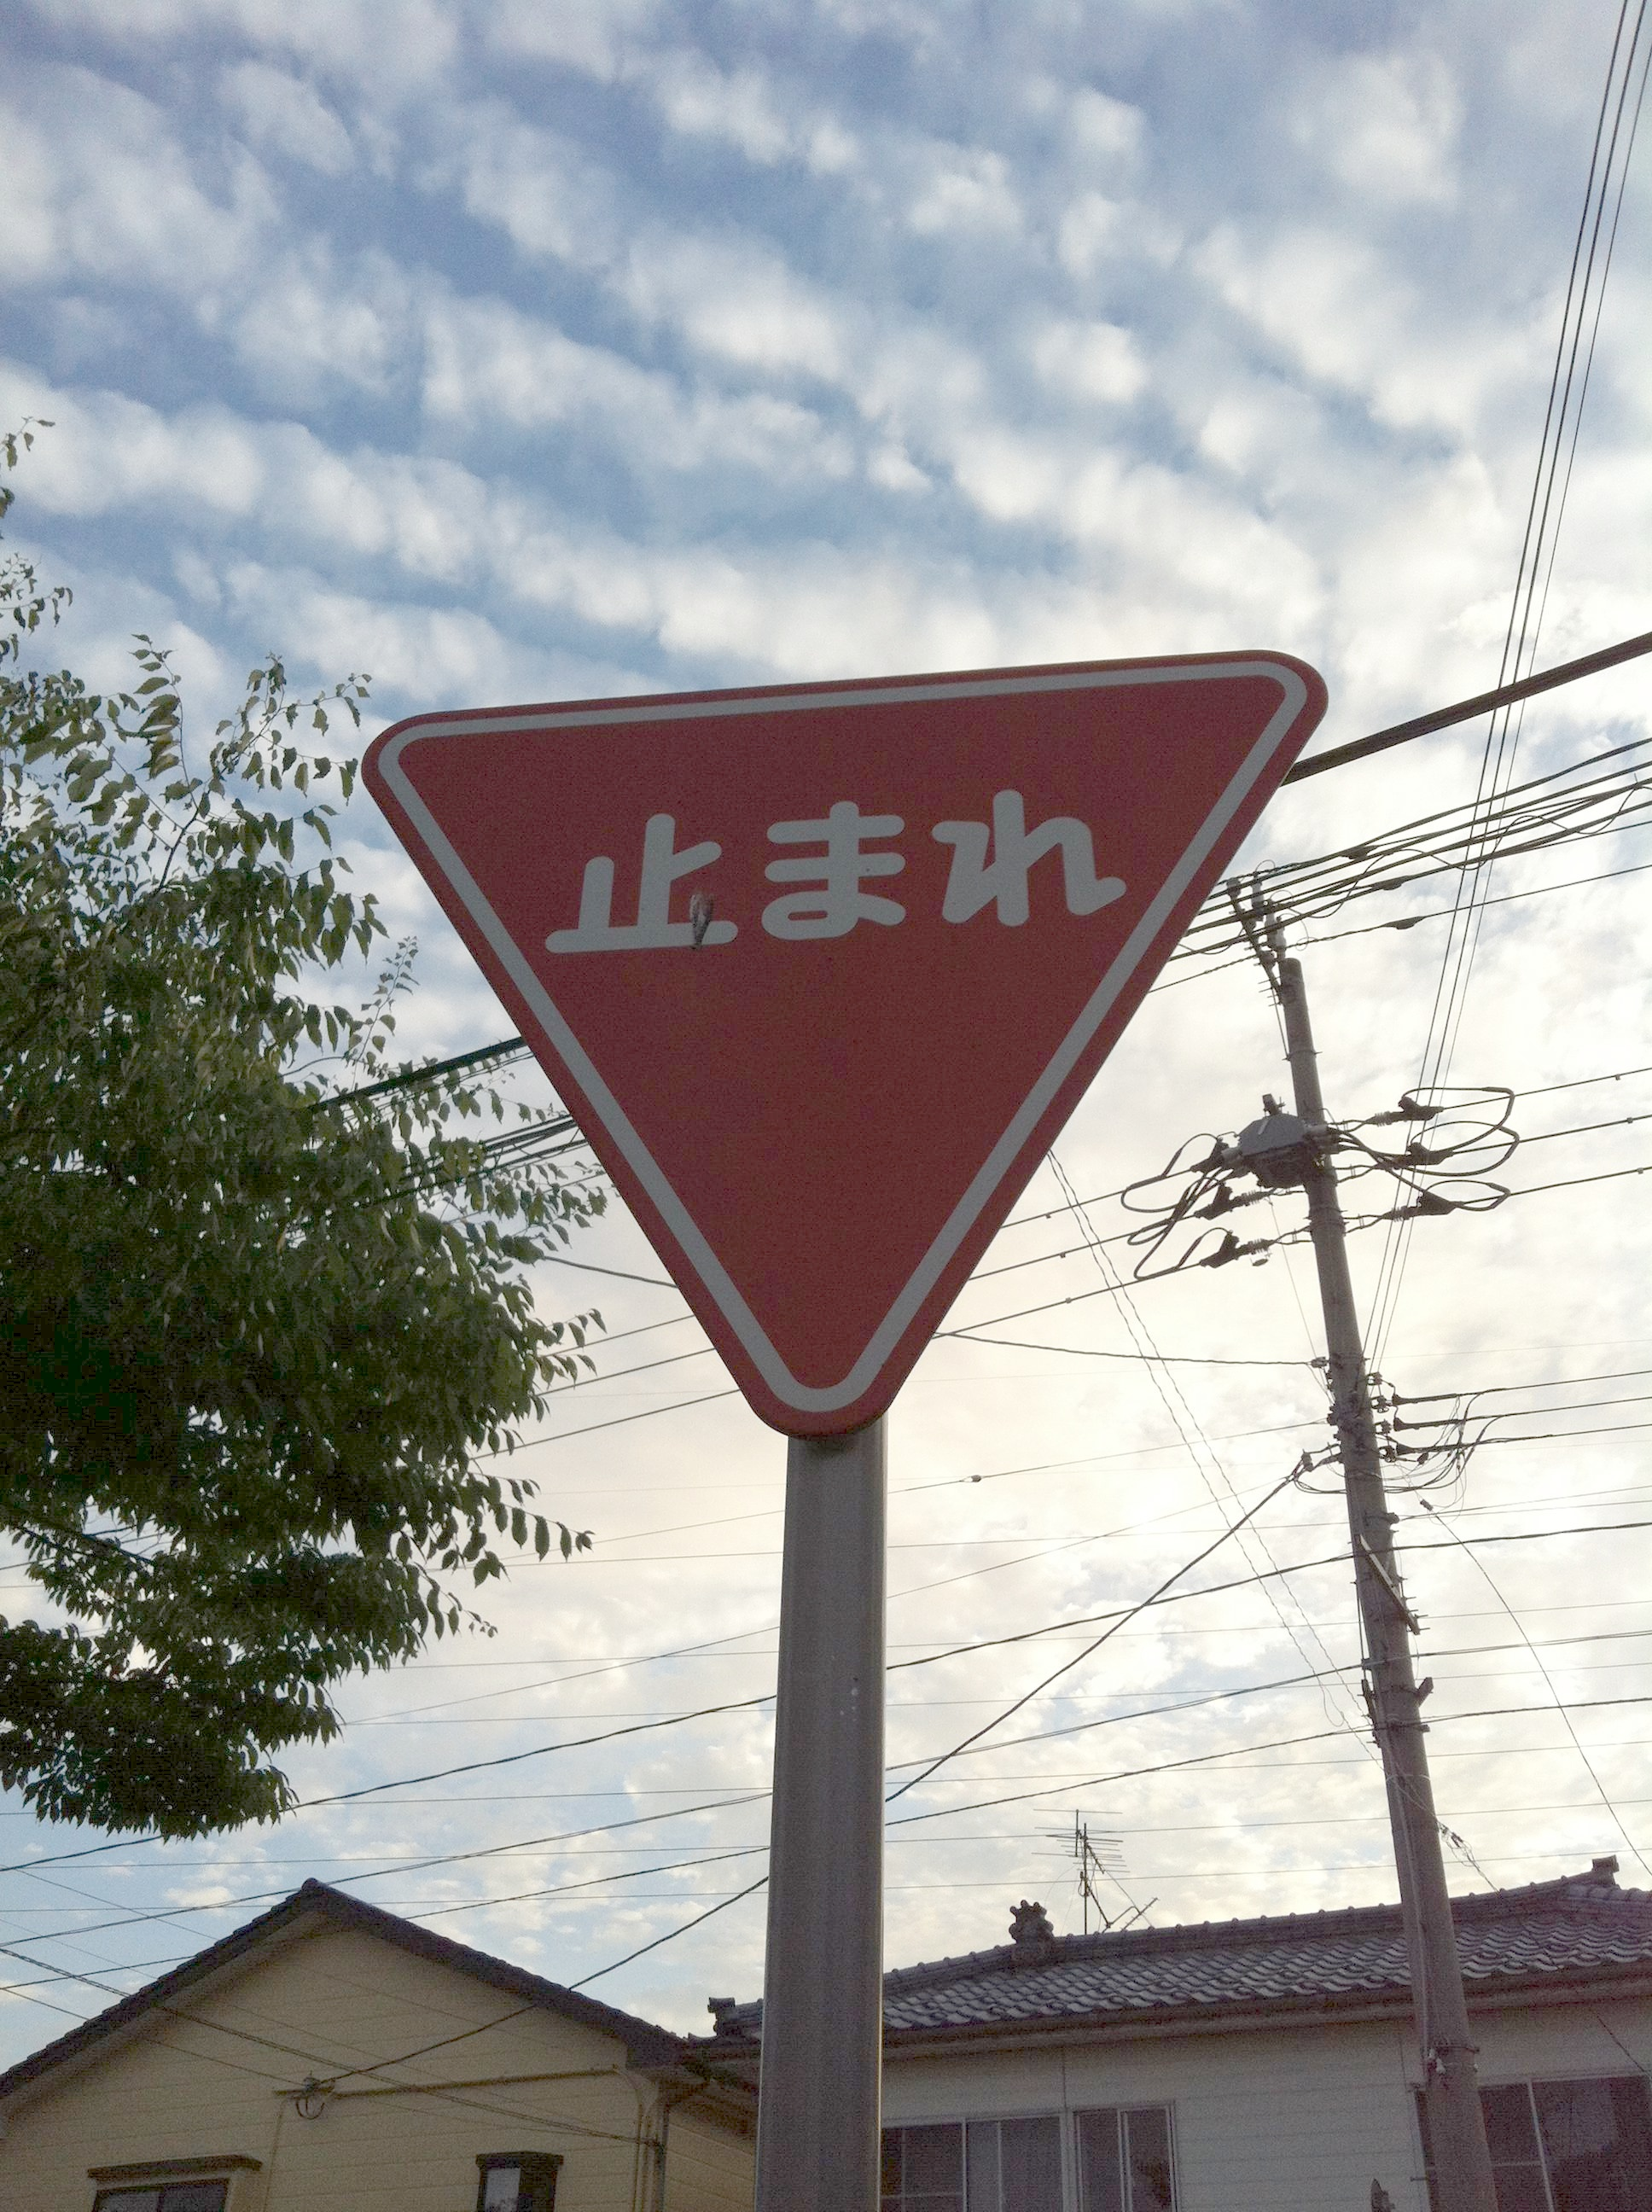Regulatory_sign_triangle: (295, 623, 1340, 1428)
